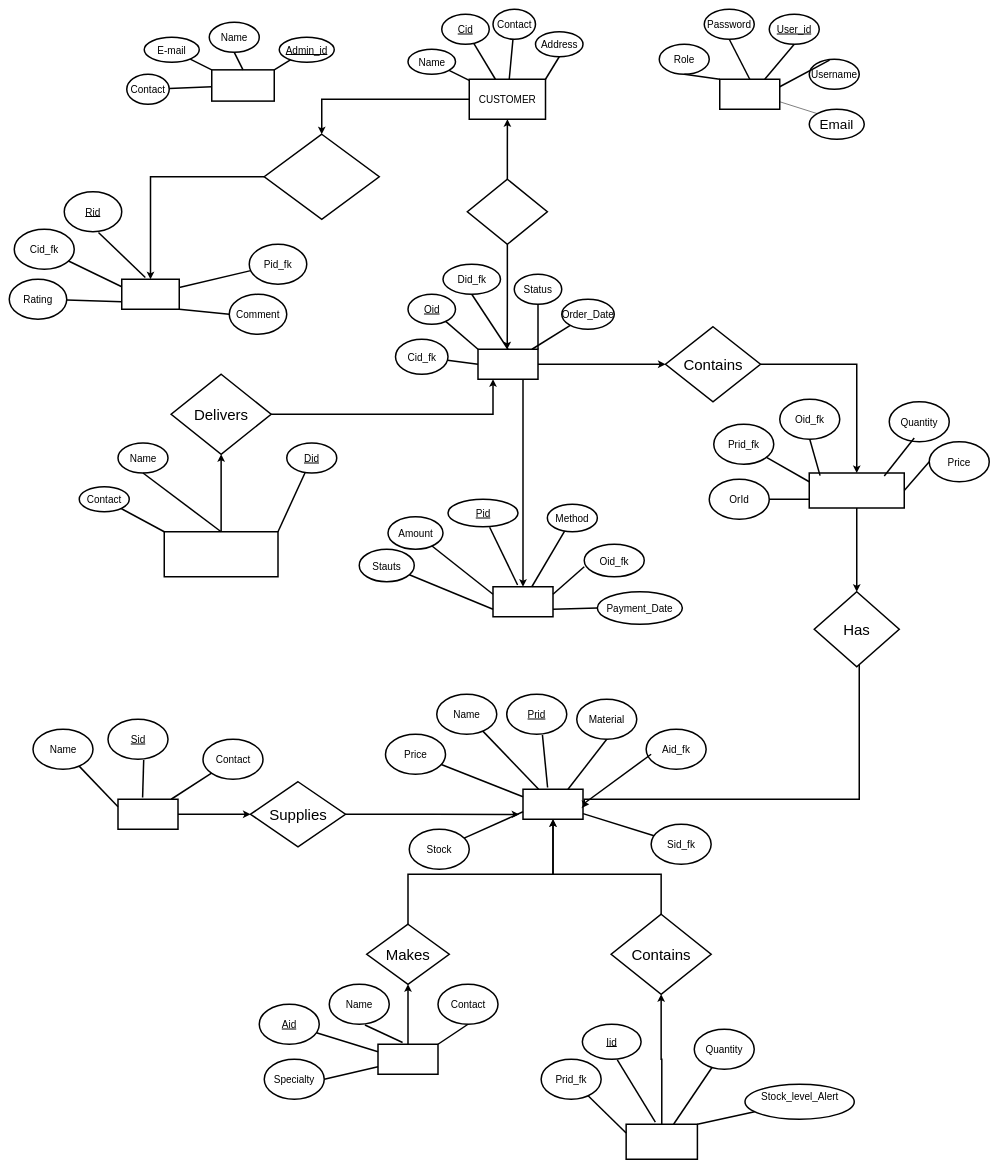
This 999x1169 diagram has some shape labels left out. Each missing label, with the box of its shape:
ADMIN: (211, 69, 275, 102)
ARTICIAN: (377, 1043, 438, 1075)
DELIVARY_PERSON: (163, 531, 278, 577)
Gives_review: (263, 133, 380, 220)
INVENTORY: (625, 1123, 698, 1160)
ORDER: (477, 348, 538, 380)
ORDER_DETAILS: (808, 472, 905, 508)
PAYMENT: (492, 586, 554, 617)
Places: (466, 178, 548, 245)
PRODUCT: (522, 788, 584, 820)
REVIEW: (121, 278, 180, 310)
SUPPLIER: (117, 798, 178, 830)
USER: (719, 78, 780, 110)
